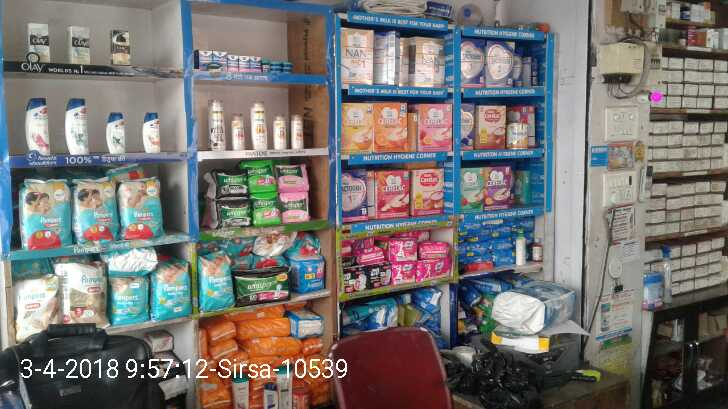vicks: (196, 47, 262, 72), (262, 57, 294, 72)
